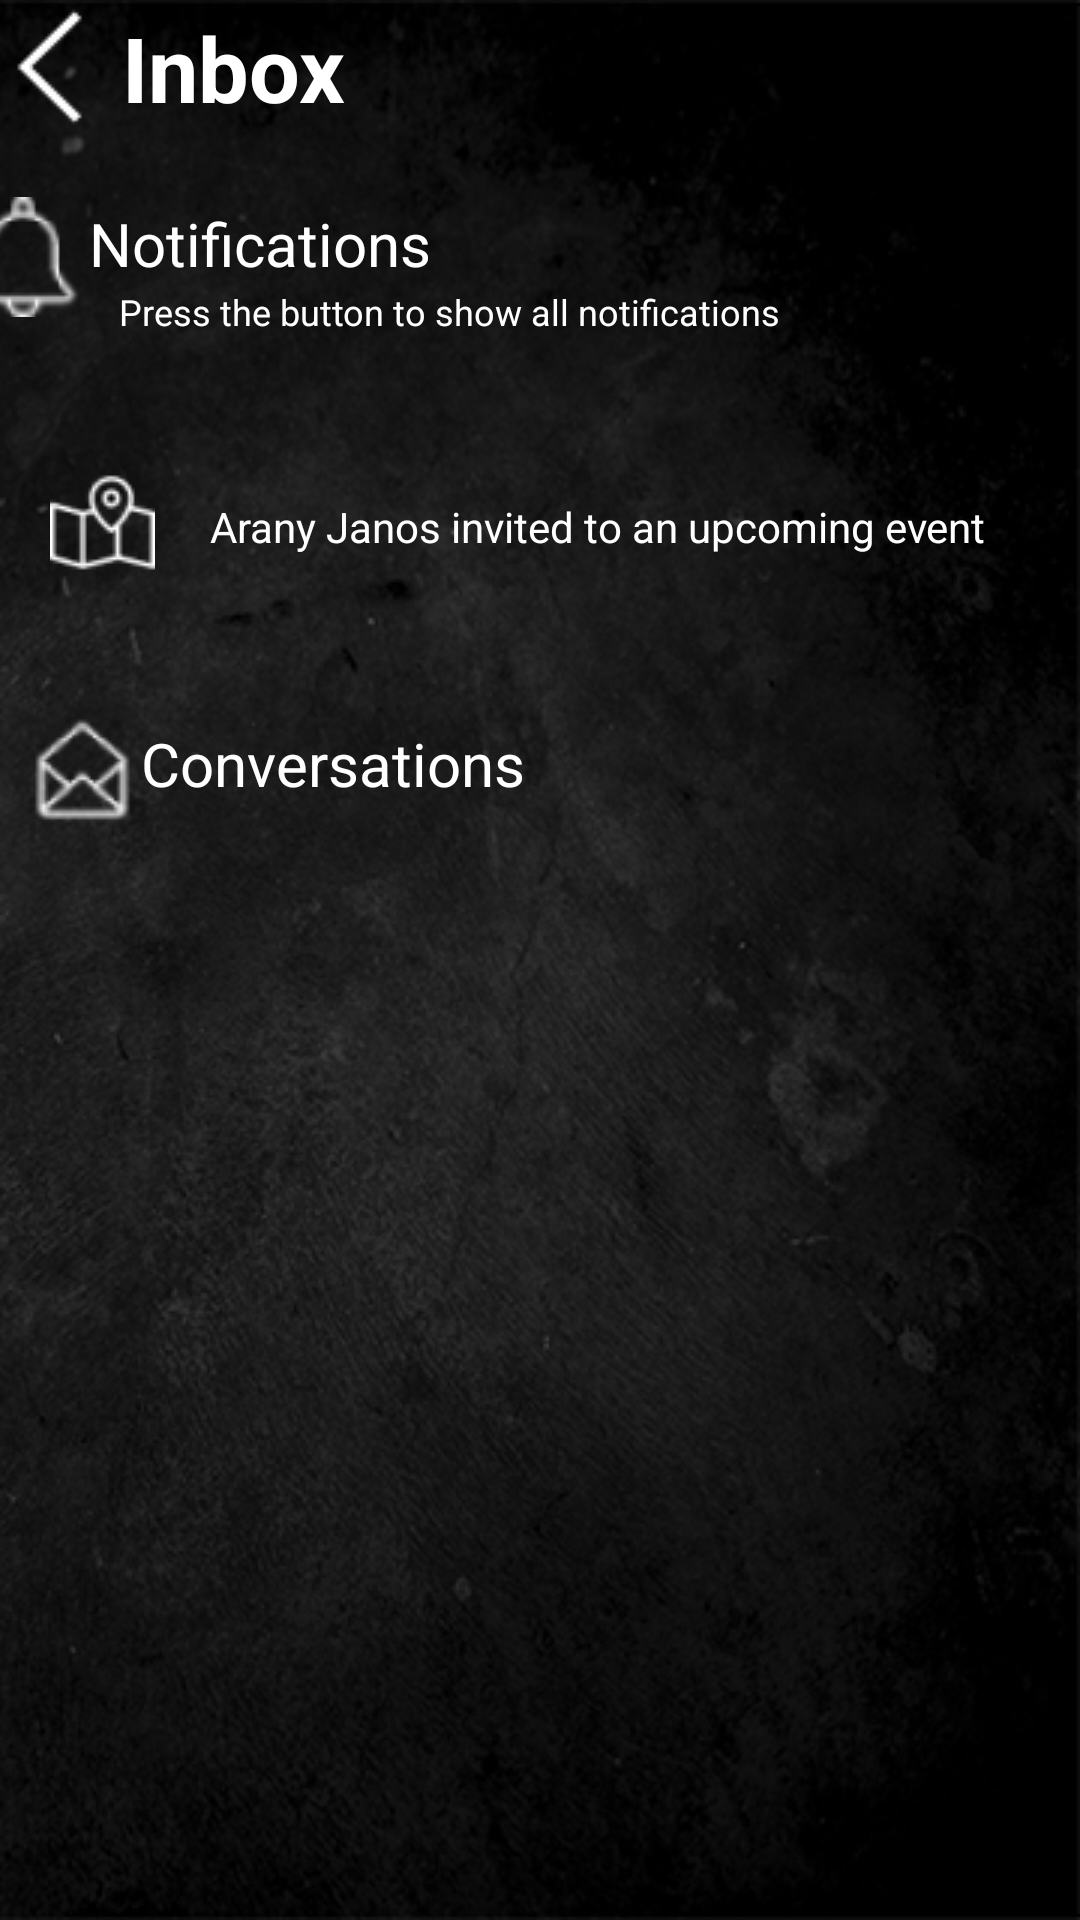

Icon click points for this 1080px x 1920px phone screenshot, format [x,y]:
backbutton: [49,67]
inbox: [82,770]
map: [97,522]
